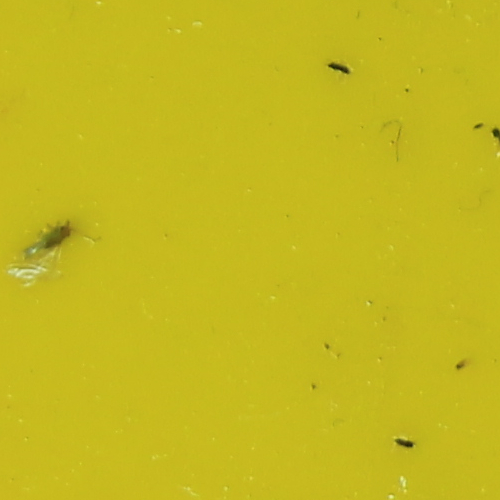psylla: (36, 215, 76, 256)
